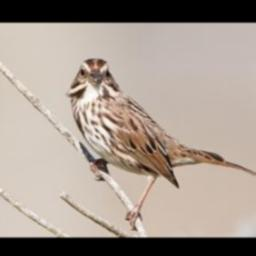Sparrow: (63, 56, 256, 232)
